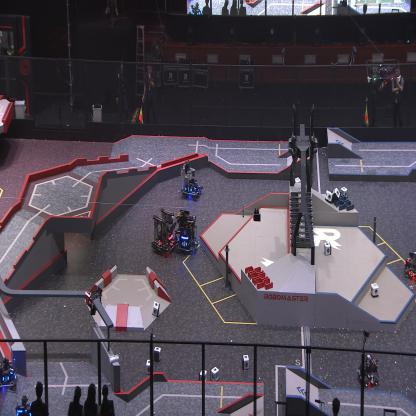car: (152, 206, 178, 257), (175, 208, 199, 256), (180, 158, 204, 200), (356, 352, 380, 388), (0, 353, 18, 392), (15, 394, 38, 416), (403, 244, 416, 281)
